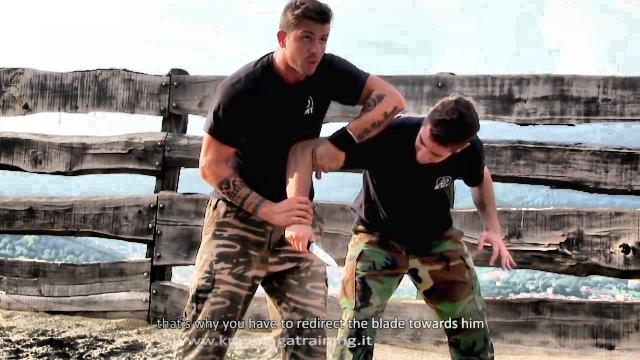knife: (284, 226, 342, 272)
